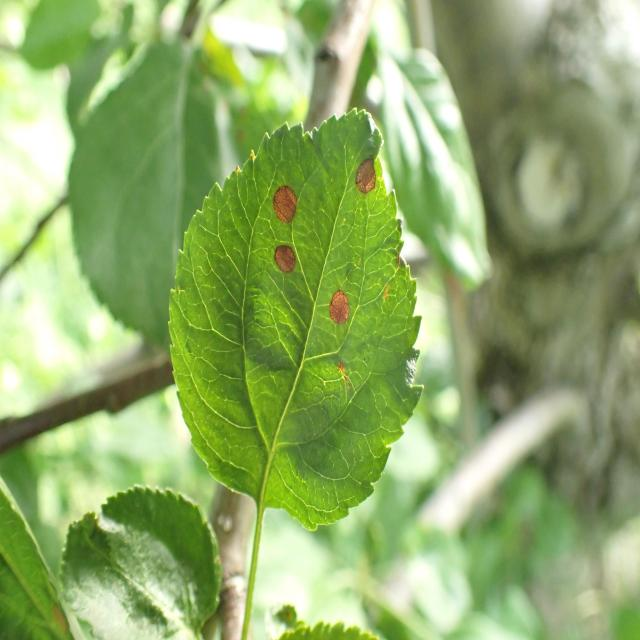frog-eye-leaf-spot: (166, 108, 424, 533)
